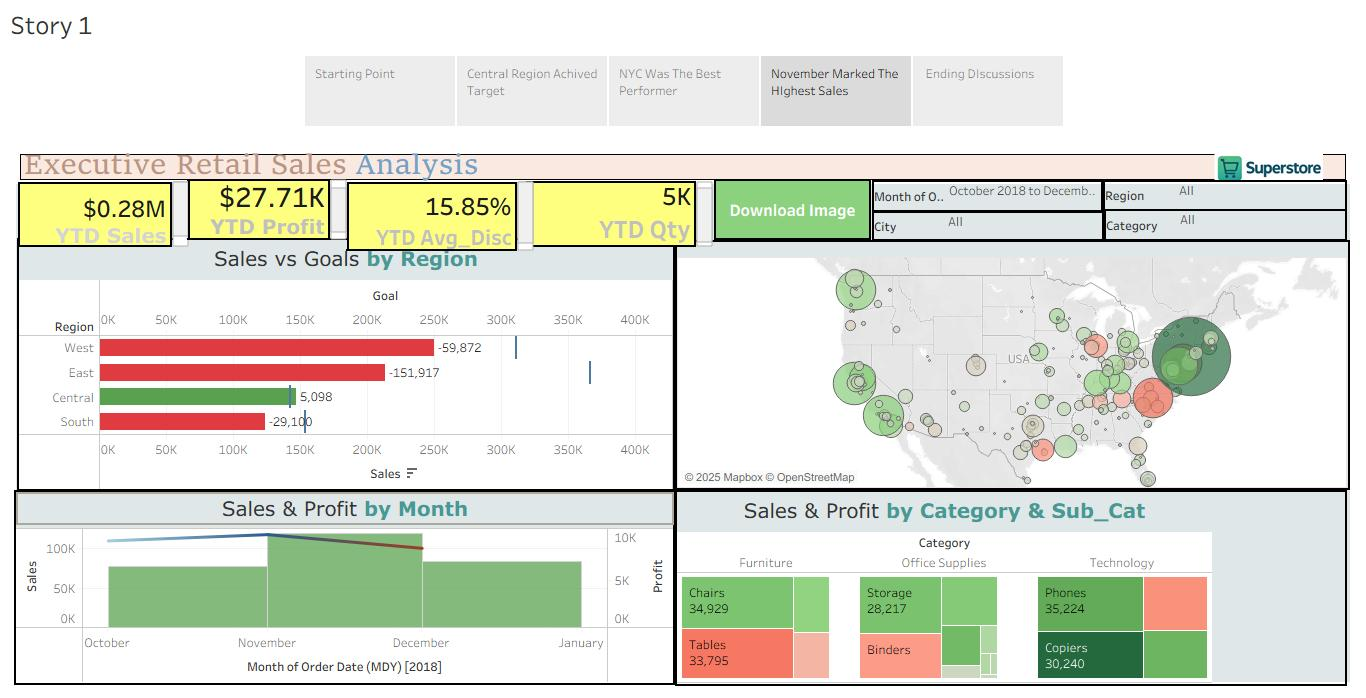

What the dashboard file says about the page in this screenshot:
{"tool":"tableau","page":{"name":"Dashboard 1","canvas":[1000,1000],"units":"permille","ordinal":0},"visuals":[{"type":"title","box":[6.9,14.2,986.1,62.1]},{"type":"image","param":"Image/Superstore-image 2.png","box":[897.9,16,92.9,60.5]},{"type":"worksheet","title":"Profit","mark":"Automatic","box":[133.3,40.9,117.8,147.7]},{"type":"worksheet","title":"Sales","mark":"Automatic","box":[6.9,44.5,127.3,147.7]},{"type":"worksheet","title":"Discount","mark":"Automatic","box":[251.1,44.5,139.4,154.8]},{"type":"worksheet","title":"Quantity","mark":"Automatic","box":[383.6,44.5,138.5,147.7]},{"type":"dashboard-object","box":[522.9,67.6,116,112.1]},{"type":"filter","title":"Time_Series","param":"[federated.0n1yw590q4qt2f17w6wlu1ym4l22].[tmn:Order Date (MDY):qk]","box":[639.8,69.4,171.4,58.7]},{"type":"filter","title":"Target_vs_Acheved","param":"[federated.0n1yw590q4qt2f17w6wlu1ym4l22].[none:Region:nk]","box":[811.3,69.4,181,56.9]},{"type":"filter","title":"Tree_Map","param":"[federated.0n1yw590q4qt2f17w6wlu1ym4l22].[none:Category:nk]","box":[812.1,122.8,180.1,58.7]},{"type":"filter","title":"City_Wise","param":"[federated.0n1yw590q4qt2f17w6wlu1ym4l22].[none:City:nk]","box":[639.8,126.3,172.3,55.2]},{"type":"worksheet","title":"Target_vs_Acheved","mark":"Automatic","rows":["Region"],"cols":["Sales","Goal"],"box":[5.2,179.7,489.2,457.3]},{"type":"worksheet","title":"City_Wise","mark":"Automatic","box":[494.4,179.7,499.6,455.5]},{"type":"worksheet","title":"Time_Series","mark":"Automatic","rows":["Sales","Profit"],"cols":["Order Date (MDY)"],"box":[4.3,635.2,490,355.9]},{"type":"worksheet","title":"Tree_Map","mark":"Automatic","cols":["Category"],"box":[494.4,635.2,497.8,357.7]}]}

Visuals, with their boxes on the dashboard's canvas, which has no fixed pixel size, in thousandths of its width and height (x1, y1, x2, y2). These are canvas units, not pixel positions in the 1366x698 screenshot, which may show the page scaled, cropped or inside an application window:
title: x1=7, y1=14, x2=993, y2=76
image: x1=898, y1=16, x2=991, y2=76
"Profit" worksheet: x1=133, y1=41, x2=251, y2=189
"Sales" worksheet: x1=7, y1=44, x2=134, y2=192
"Discount" worksheet: x1=251, y1=44, x2=390, y2=199
"Quantity" worksheet: x1=384, y1=44, x2=522, y2=192
dashboard-object: x1=523, y1=68, x2=639, y2=180
"Time_Series" filter: x1=640, y1=69, x2=811, y2=128
"Target_vs_Acheved" filter: x1=811, y1=69, x2=992, y2=126
"Tree_Map" filter: x1=812, y1=123, x2=992, y2=182
"City_Wise" filter: x1=640, y1=126, x2=812, y2=182
"Target_vs_Acheved" worksheet: x1=5, y1=180, x2=494, y2=637
"City_Wise" worksheet: x1=494, y1=180, x2=994, y2=635
"Time_Series" worksheet: x1=4, y1=635, x2=494, y2=991
"Tree_Map" worksheet: x1=494, y1=635, x2=992, y2=993
